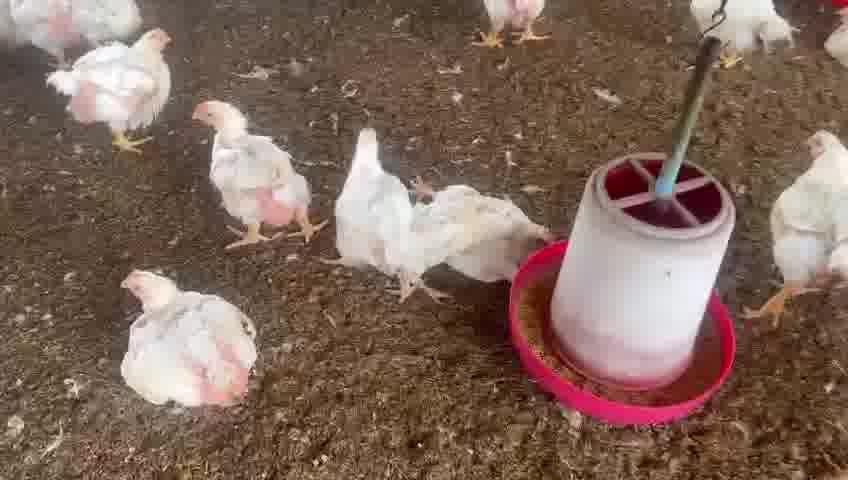AbNormal: (410, 172, 566, 280), (810, 11, 848, 79)
Normal: (115, 265, 274, 410), (186, 91, 328, 245), (745, 125, 848, 329), (48, 29, 198, 149), (336, 116, 425, 306), (680, 0, 801, 71)
